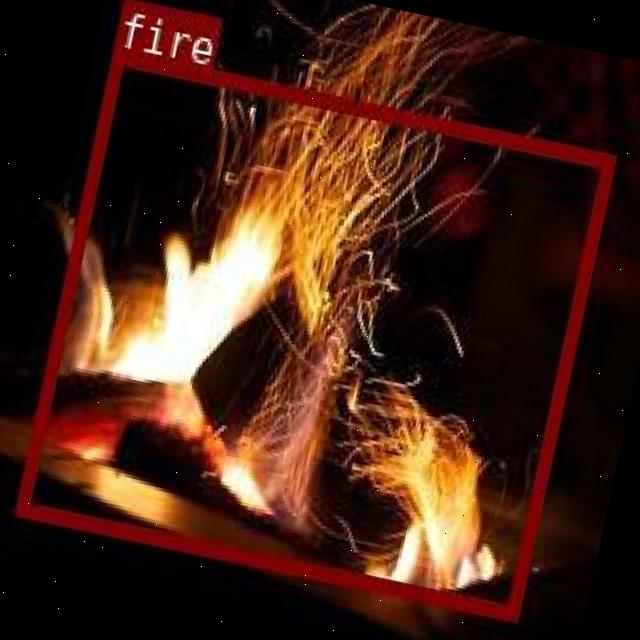fire: (13, 47, 612, 619)
